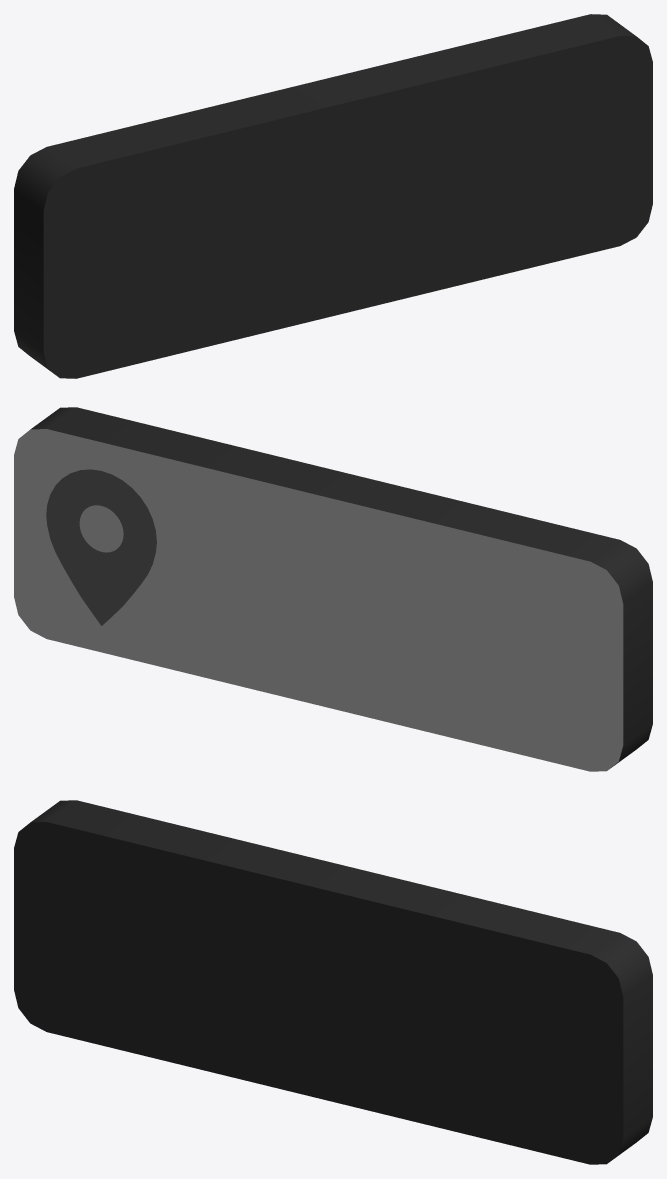
Rendered from coords_panel.glb.
3 views of the same model, one above another, from view 1: azimuth 30°, elevation 25°; view 2: azimuth 150°, elevation 25°; view 3: azimuth 330°, elevation 25° (orthographic).
Parts seen in each view (by area): view 1: coords_panel; view 2: coords_panel; view 3: coords_panel.
Part boxes in pixels (x1=…): coords_panel: x1=14, y1=14, x2=652, y2=378; coords_panel: x1=14, y1=407, x2=652, y2=771; coords_panel: x1=14, y1=800, x2=652, y2=1164.
Size of the model in its own units: 1.38 by 0.4562 by 0.125.
1 material, 1 textured.
